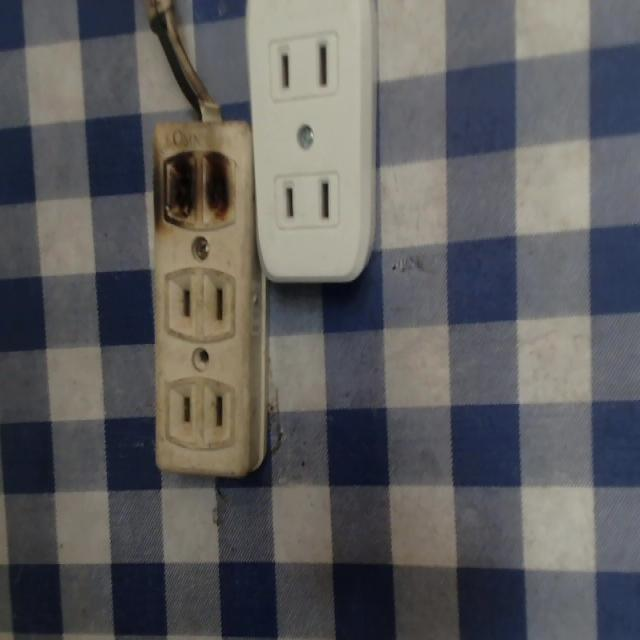-: (150, 141, 248, 240)
